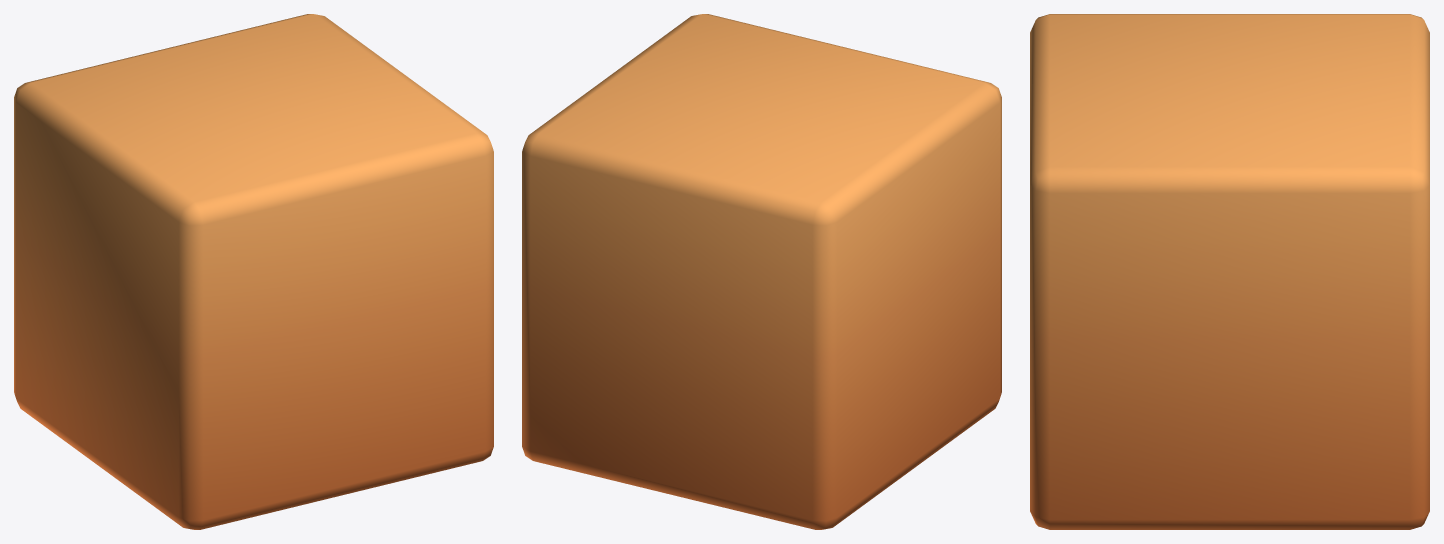
Rendered from 3D_Tile_Ground_02.glb.
3 renders of one model, left to right at view 1: azimuth 30°, elevation 25°; view 2: azimuth 150°, elevation 25°; view 3: azimuth 270°, elevation 25°, orthographic. The views are drawn at different scales.
Parts seen in each view (by area): view 1: 3D_Tile_Ground_02; view 2: 3D_Tile_Ground_02; view 3: 3D_Tile_Ground_02.
Part boxes in pixels (box(x1,y1,x2,y2)): 3D_Tile_Ground_02: box(14, 14, 493, 529); 3D_Tile_Ground_02: box(522, 14, 1001, 529); 3D_Tile_Ground_02: box(1030, 14, 1429, 529).
Size of the model in its own units: 2 by 2 by 2.
1 material, 1 textured.
